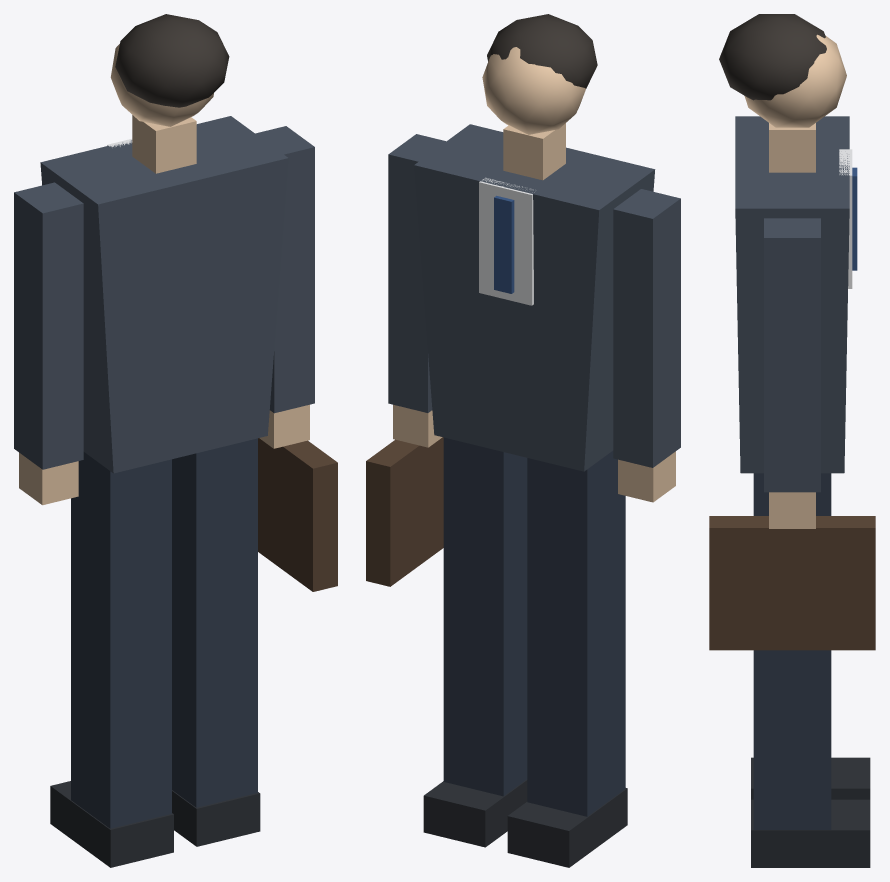
File: ped_suit.glb
3 renders of one model, left to right at view 1: azimuth 30°, elevation 25°; view 2: azimuth 150°, elevation 25°; view 3: azimuth 270°, elevation 25°, orthographic. The views are drawn at different scales.
Visible parts, largest first — view 1: Body, LegL, LegR; view 2: Body, LegL, LegR; view 3: Body, LegR, LegL.
Boxes of the visible parts, <box> form: Body: <box>14,14,337,591</box>; LegL: <box>50,452,173,867</box>; LegR: <box>172,438,260,846</box>; Body: <box>366,14,680,586</box>; LegL: <box>507,450,627,867</box>; LegR: <box>423,437,527,847</box>; Body: <box>709,14,875,650</box>; LegR: <box>751,473,870,867</box>; LegL: <box>751,757,870,799</box>.
Bounding box in the file's own units: 0.6 × 1.73 × 0.32.
